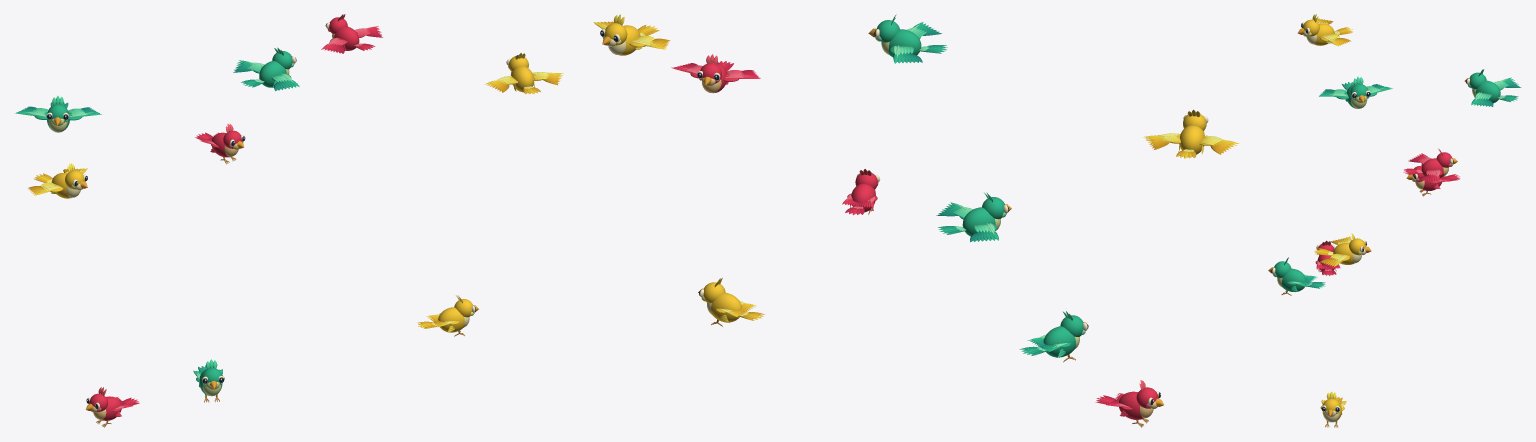
File: birds-D9AQUgvi.glb
3 renders of one model, left to right at view 1: azimuth 30°, elevation 25°; view 2: azimuth 150°, elevation 25°; view 3: azimuth 270°, elevation 25°, orthographic. The views are drawn at different scales.
Visible parts, largest first — view 1: Bird_2_body; view 2: Bird_3_body, Bird_2_body; view 3: Bird_3_body, Bird_6_body, Bird_5_body, Bird_9_head, Bird_8_body, Bird_5_head, Bird_2_head, Bird_7_body, Bird_8_head, Bird_3_head.
Boxes of the visible parts, x1,y1,x2,y2 form: Bird_2_body: [438, 307, 469, 332]; Bird_3_body: [1043, 326, 1079, 357]; Bird_2_body: [707, 292, 741, 322]; Bird_3_body: [1277, 268, 1306, 291]; Bird_6_body: [1472, 80, 1500, 103]; Bird_5_body: [1306, 23, 1334, 45]; Bird_9_head: [1350, 76, 1369, 103]; Bird_8_body: [1333, 243, 1361, 264]; Bird_5_head: [1297, 14, 1319, 36]; Bird_2_head: [1322, 391, 1340, 416]; Bird_7_body: [1421, 158, 1448, 177]; Bird_8_head: [1349, 233, 1371, 255]; Bird_3_head: [1268, 257, 1291, 278].
Bounding box in the file's own units: 11.97 × 6.69 × 5.5.
